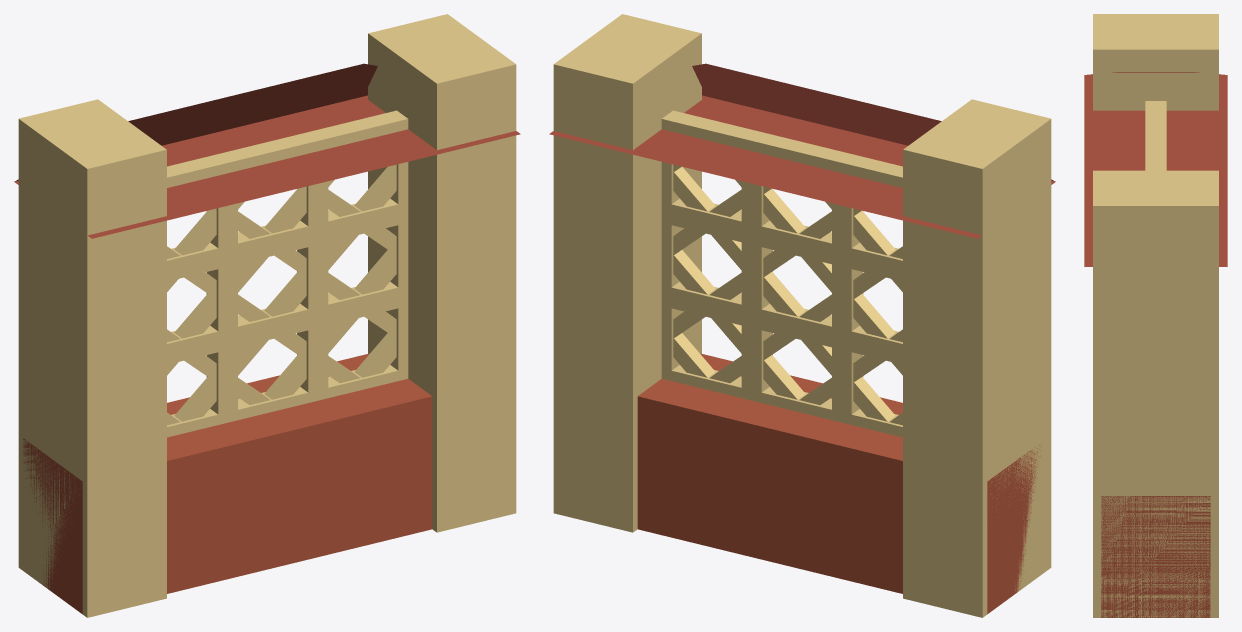
Rendered from viet_fence_breeze.glb.
3 renders of one model, left to right at view 1: azimuth 30°, elevation 25°; view 2: azimuth 150°, elevation 25°; view 3: azimuth 270°, elevation 25°, orthographic. The views are drawn at different scales.
Parts seen in each view (by area): view 1: viet_fence_breeze; view 2: viet_fence_breeze; view 3: viet_fence_breeze.
Boxes of the visible parts, x1,y1,x2,y2 form: viet_fence_breeze: [14, 14, 520, 617]; viet_fence_breeze: [549, 14, 1055, 617]; viet_fence_breeze: [1084, 14, 1227, 617].
Bounding box in the file's own units: 1 × 1 × 0.3148.
